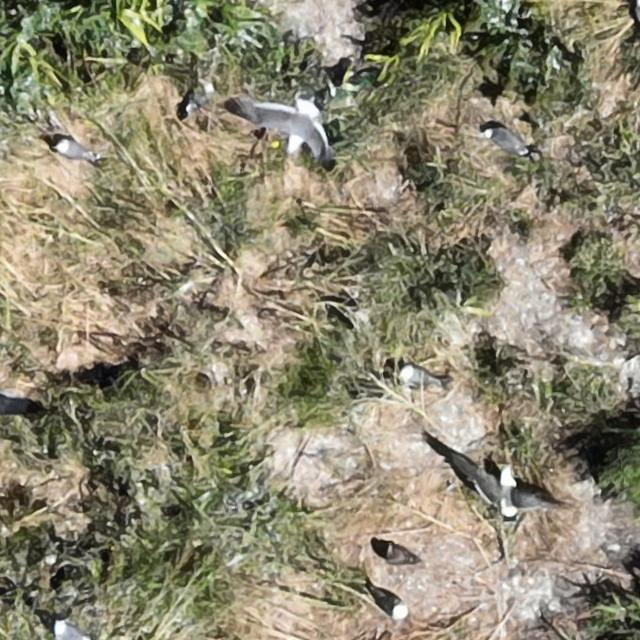F: (473, 460, 552, 519), (249, 102, 335, 154)
umineko: (400, 366, 446, 392), (486, 129, 529, 153), (372, 589, 405, 616), (187, 83, 212, 112), (54, 139, 90, 159), (55, 621, 88, 640)
